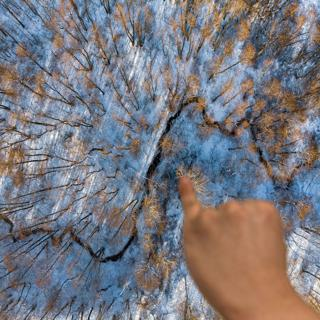FINE: (173, 171, 291, 304)
